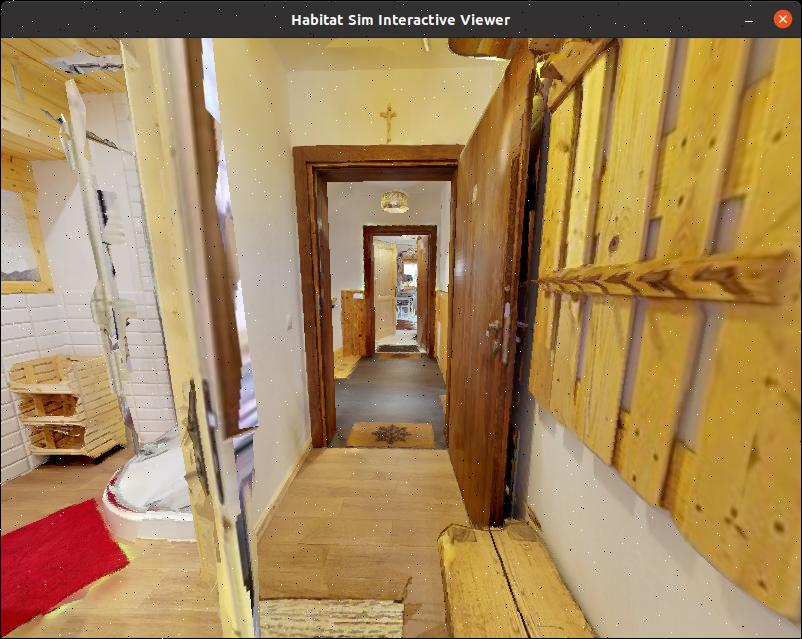door: (440, 61, 535, 528)
door-frame: (287, 145, 473, 458)
shower: (57, 75, 202, 532)
